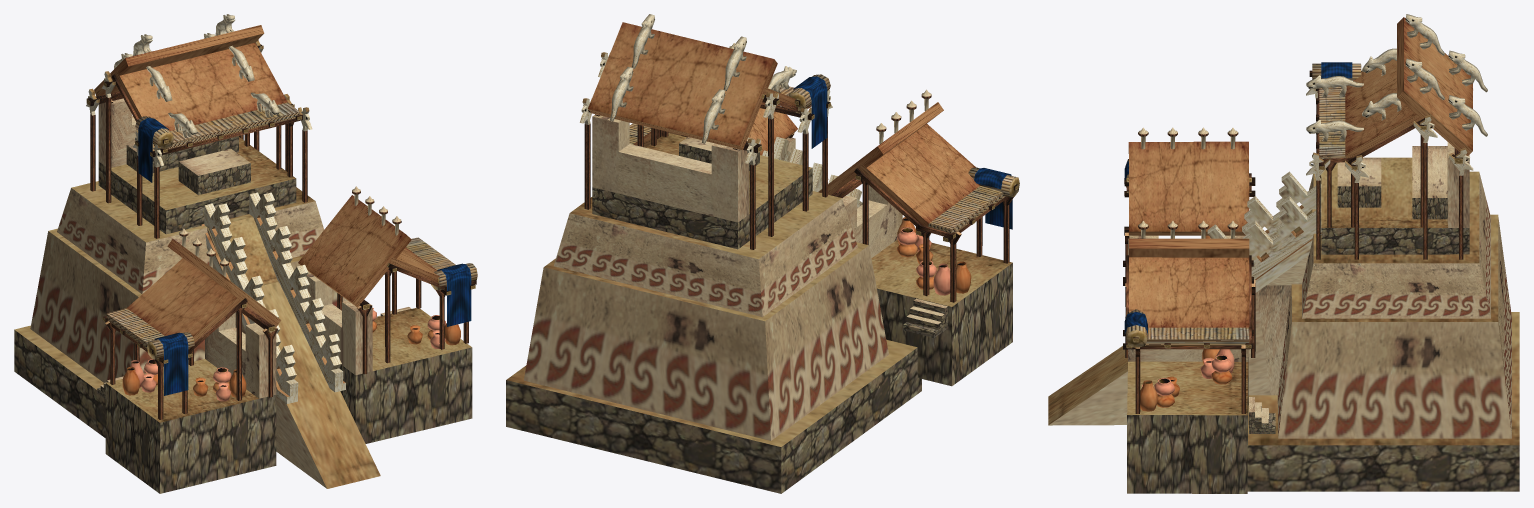
Rendered from temple.dae.
3 renders of one model, left to right at view 1: azimuth 30°, elevation 25°; view 2: azimuth 150°, elevation 25°; view 3: azimuth 270°, elevation 25°, orthographic. The views are drawn at different scales.
Visible parts, largest first — view 1: temple; view 2: temple; view 3: temple.
Boxes of the visible parts, box(x1,y1,x2,y2) form: temple: box(14, 14, 477, 493); temple: box(506, 14, 1019, 493); temple: box(1048, 14, 1519, 493).
Size of the model in its own units: 27.37 by 31.1 by 28.3.
